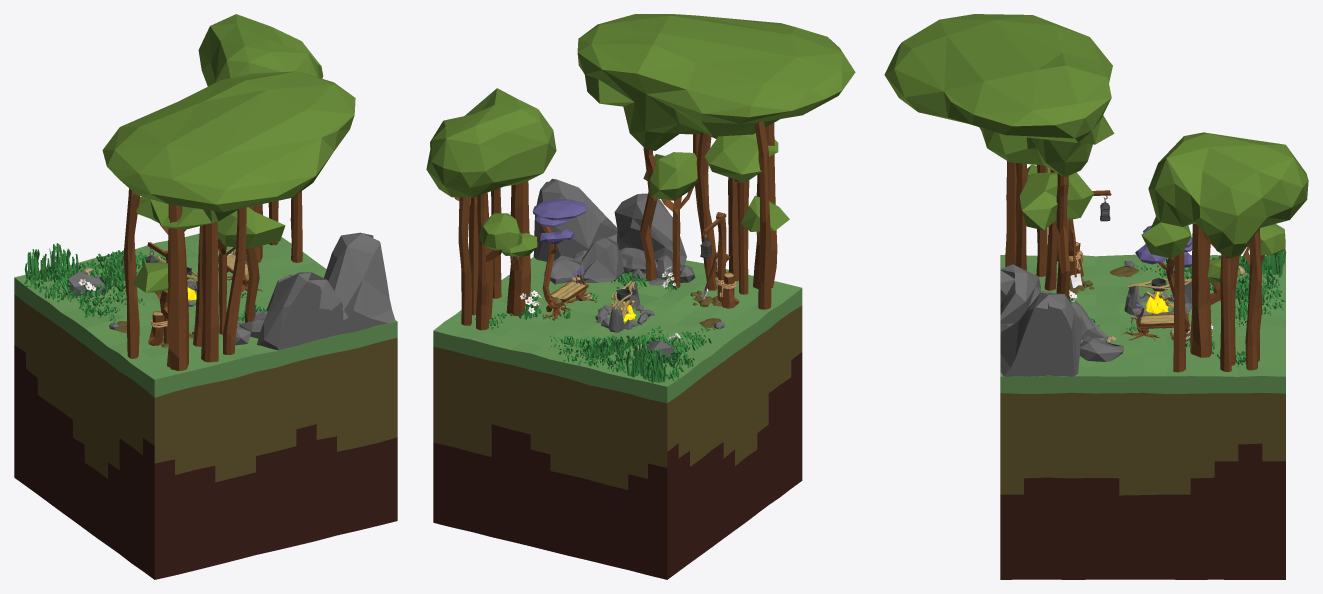
The model's file is territorio1.fbx.
3 views of the same model, side by side, from view 1: azimuth 30°, elevation 25°; view 2: azimuth 150°, elevation 25°; view 3: azimuth 270°, elevation 25° (orthographic). The views are drawn at different scales.
Parts seen in each view (by area): view 1: Cube, Mball.010, Mball.000, Icosphere.027, Icosphere.028, Cylinder.009, Cylinder.010, Cylinder.006, Cylinder.007, Cylinder.011, Cylinder.004, Cylinder.012 (+3 smaller); view 2: Cube, Mball.010, Mball.000, Icosphere.027, Icosphere.028, Cylinder.006, Cylinder.001, Mball.011, Icosphere.006, Mball.006, Cylinder.002, Cylinder.012 (+13 smaller); view 3: Cube, Mball.010, Mball.000, Icosphere.027, Cylinder.001, Icosphere.028, Cylinder.005, Cylinder.003, Cylinder.011, Cylinder.004, Mball.011, Cylinder.010 (+7 smaller).
Boxes of the visible parts, box(x1,y1,x2,y2) form: Cube: box(14, 233, 397, 579); Mball.010: box(102, 71, 355, 292); Mball.000: box(198, 14, 323, 86); Icosphere.027: box(324, 232, 395, 334); Icosphere.028: box(257, 272, 343, 350); Cylinder.009: box(156, 204, 188, 370); Cylinder.010: box(201, 221, 218, 362); Cylinder.006: box(123, 188, 140, 358); Cylinder.007: box(223, 207, 246, 354); Cylinder.011: box(245, 206, 259, 322); Cylinder.004: box(290, 191, 302, 262); Cylinder.012: box(193, 225, 203, 346); Cube: box(433, 257, 802, 579); Mball.010: box(577, 14, 855, 231); Mball.000: box(426, 88, 556, 197); Icosphere.027: box(533, 178, 617, 261); Icosphere.028: box(614, 193, 686, 265); Cylinder.006: box(754, 122, 771, 309); Cylinder.001: box(506, 181, 530, 316); Mball.011: box(479, 213, 537, 256); Icosphere.006: box(577, 237, 624, 282); Mball.006: box(532, 199, 586, 244); Cylinder.002: box(476, 193, 501, 330); Cylinder.012: box(696, 132, 717, 290); Cube: box(1000, 254, 1285, 579); Mball.010: box(884, 14, 1114, 230); Mball.000: box(1141, 132, 1308, 258); Icosphere.027: box(1000, 292, 1082, 376); Cylinder.001: box(1190, 224, 1220, 357); Icosphere.028: box(1000, 264, 1040, 332); Cylinder.005: box(1245, 230, 1261, 370); Cylinder.003: box(1202, 231, 1237, 371); Cylinder.011: box(1056, 173, 1070, 299); Cylinder.004: box(1173, 251, 1185, 372); Mball.011: box(1207, 224, 1285, 283); Cylinder.010: box(1006, 161, 1016, 266).
Size of the model in its own units: 2467 by 3409 by 2882.
